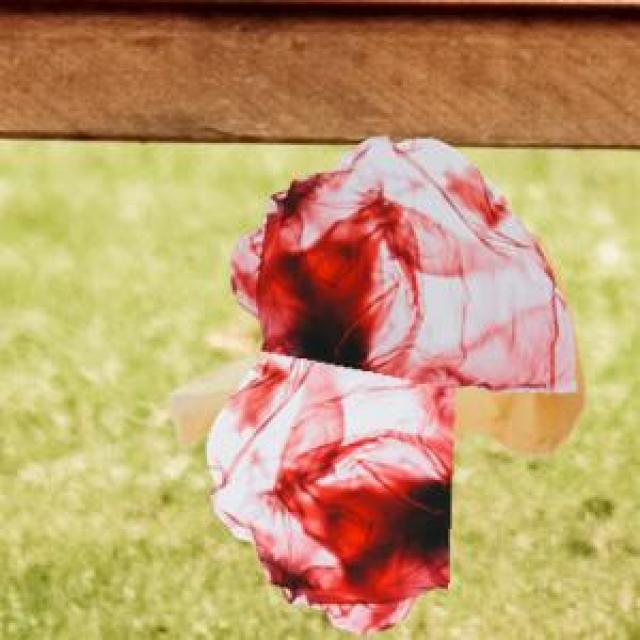waste: (208, 139, 578, 632)
